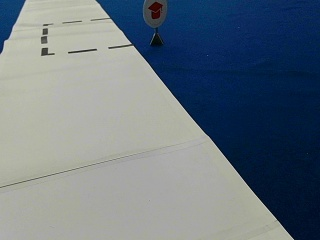school: (141, 1, 167, 26)
